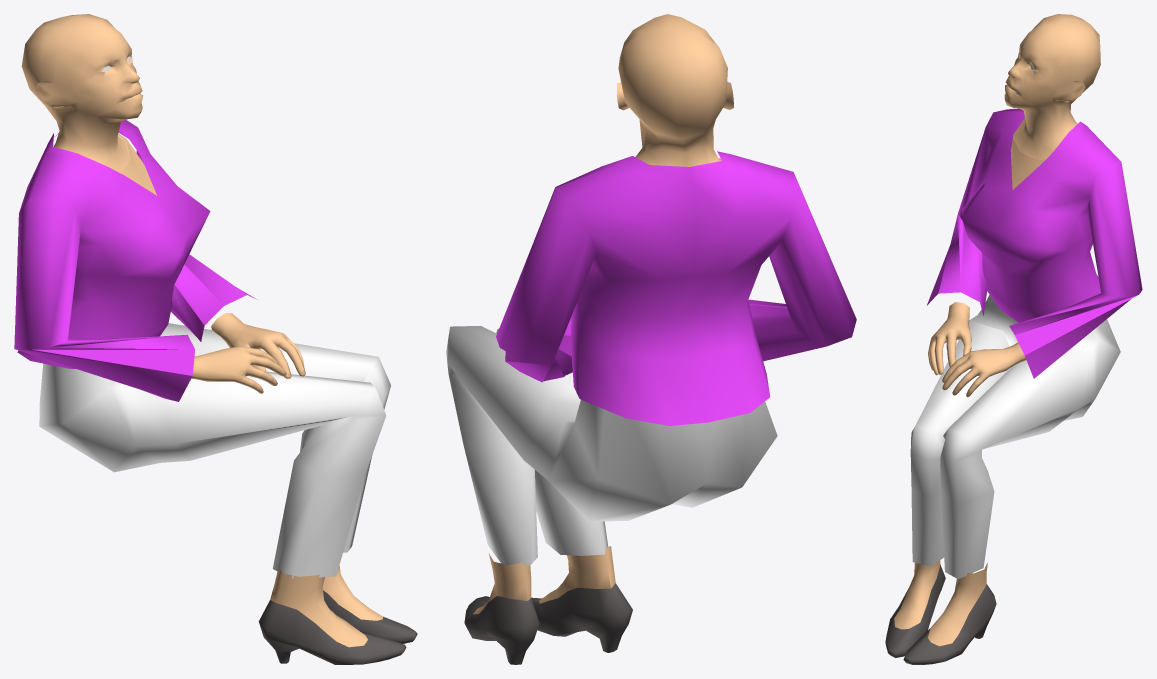
Rendered from player6.gltf.
The picture shows the model from 3 angles, left to right: view 1: azimuth 30°, elevation 25°; view 2: azimuth 150°, elevation 25°; view 3: azimuth 270°, elevation 25°; orthographic projection. The views are drawn at different scales.
Visible parts, largest first — view 1: Group_099, Group_101, Group_102, Group_106, Group_105, Group_100; view 2: Group_099, Group_101, Group_102, Group_106, Group_105; view 3: Group_099, Group_101, Group_102, Group_106, Group_105, Group_100.
Part boxes in pixels (x1,y1,x2,y2): Group_099: (14,120,256,401); Group_101: (39,323,390,578); Group_102: (21,14,305,393); Group_106: (258,590,417,664); Group_105: (270,565,382,647); Group_100: (118,133,156,195); Group_099: (496,151,856,425); Group_101: (446,326,777,565); Group_102: (616,14,733,166); Group_106: (464,583,632,664); Group_105: (473,546,615,614); Group_099: (927,108,1142,378); Group_101: (910,294,1120,579); Group_102: (928,14,1100,397); Group_106: (885,564,996,664); Group_105: (894,560,987,646); Group_100: (1010,138,1045,189).
Bounding box in the file's own units: 1.42 × 2.34 × 1.01.
